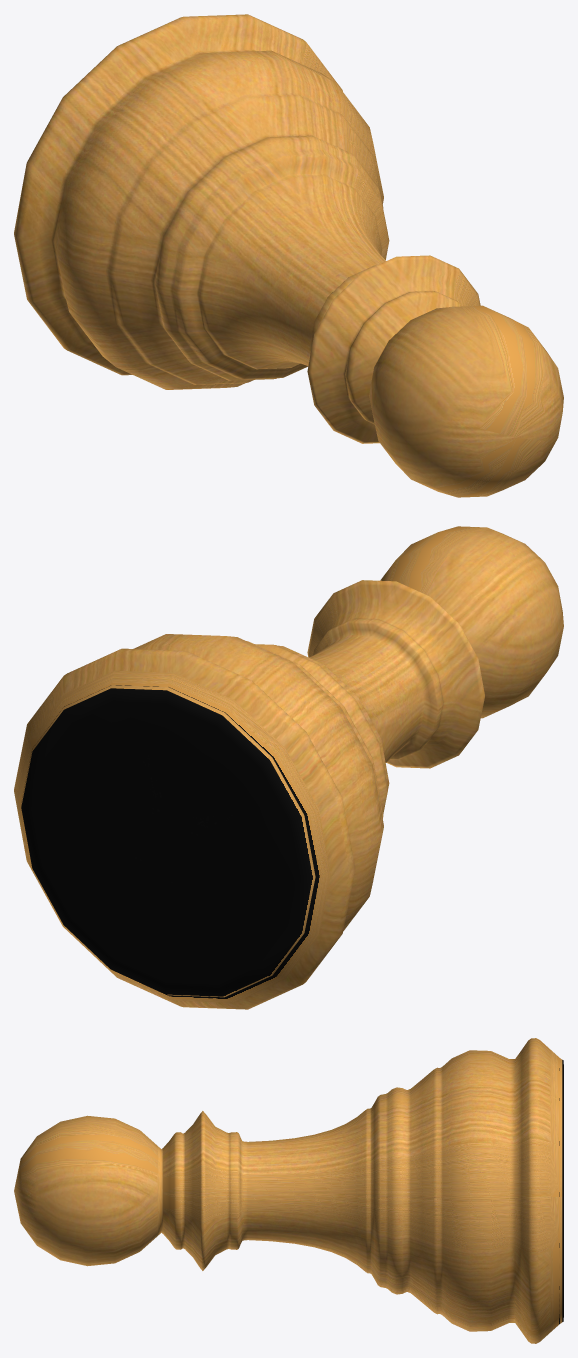
The model's file is Pedone_Bianco_1-1k.obj.
The picture shows the model from 3 angles, top to bottom: view 1: azimuth 30°, elevation 25°; view 2: azimuth 150°, elevation 25°; view 3: azimuth 270°, elevation 25°; orthographic projection. The views are drawn at different scales.
Visible parts, largest first — view 1: 12931_WoodenChessPawnSideA_v1_l3; view 2: 12931_WoodenChessPawnSideA_v1_l3; view 3: 12931_WoodenChessPawnSideA_v1_l3.
Part boxes in pixels (x1,y1,x2,y2): 12931_WoodenChessPawnSideA_v1_l3: [14, 14, 563, 497]; 12931_WoodenChessPawnSideA_v1_l3: [14, 526, 563, 1009]; 12931_WoodenChessPawnSideA_v1_l3: [14, 1038, 563, 1343].
Size of the model in its own units: 4.47 by 4.47 by 8.03.
1 material, 1 textured.
